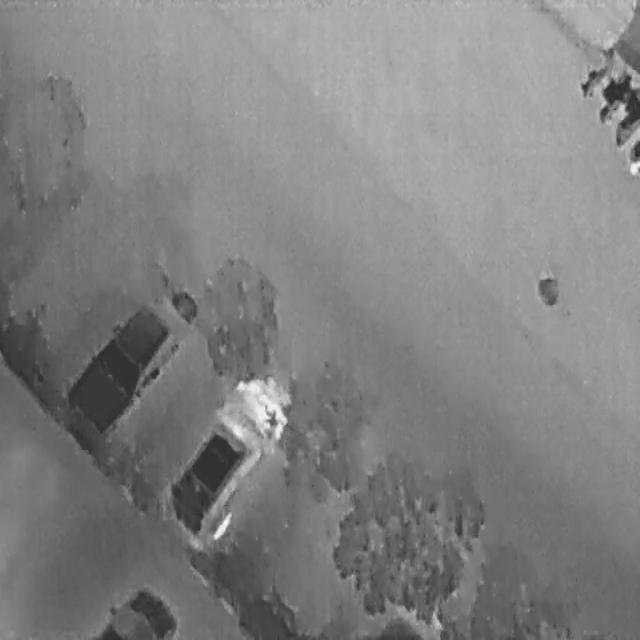Bicycle: (586, 59, 638, 126), (574, 54, 609, 106), (614, 85, 638, 147), (625, 136, 638, 175)
Car: (153, 351, 307, 551), (57, 281, 189, 451), (95, 582, 176, 638)
